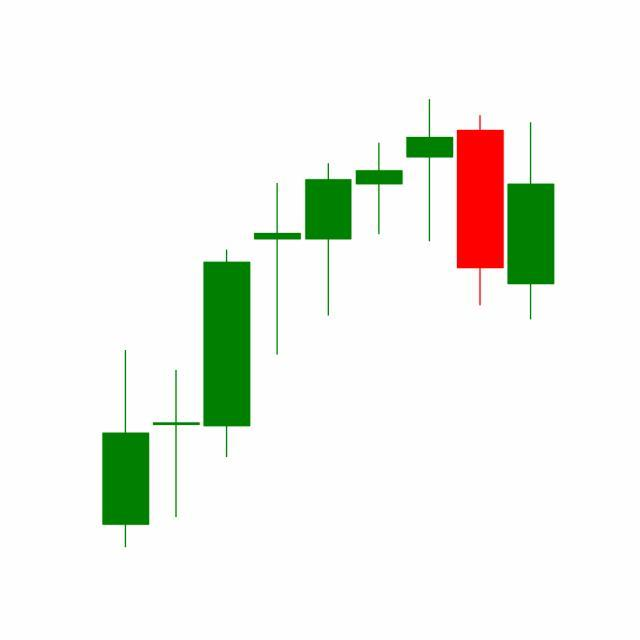Three Line Strike: (303, 99, 507, 320)
